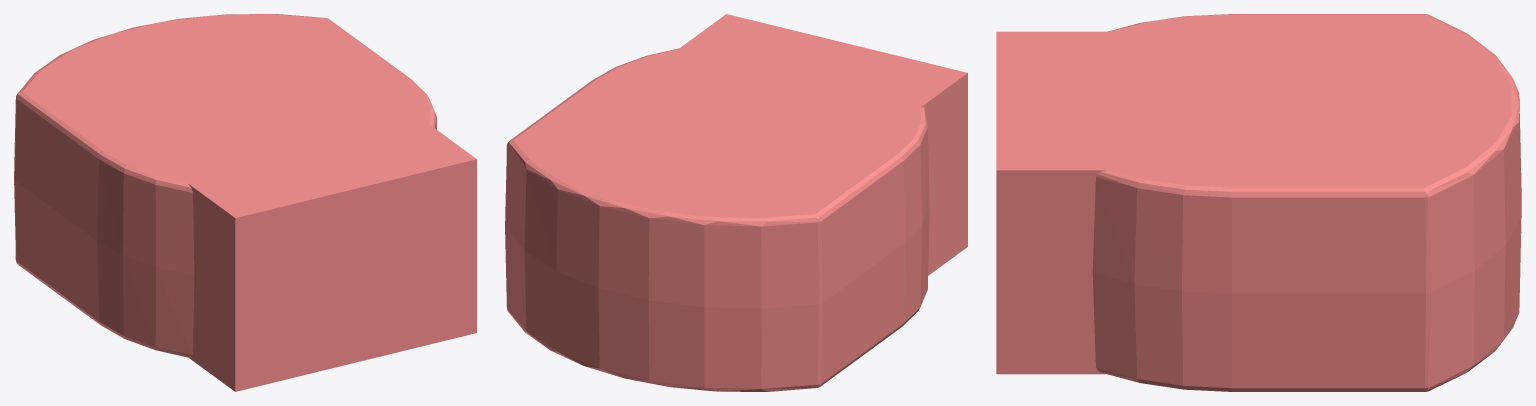
The model's file is body2_5.obj.
3 views of the same model, side by side, from view 1: azimuth 30°, elevation 25°; view 2: azimuth 150°, elevation 25°; view 3: azimuth 270°, elevation 25° (orthographic). The views are drawn at different scales.
Visible parts, largest first — view 1: Body5; view 2: Body5; view 3: Body5.
Part boxes in pixels (bbox=[...]): Body5: bbox=[14, 14, 476, 391]; Body5: bbox=[505, 14, 967, 391]; Body5: bbox=[996, 14, 1521, 391].
Size of the model in its own units: 84 by 44 by 103.
